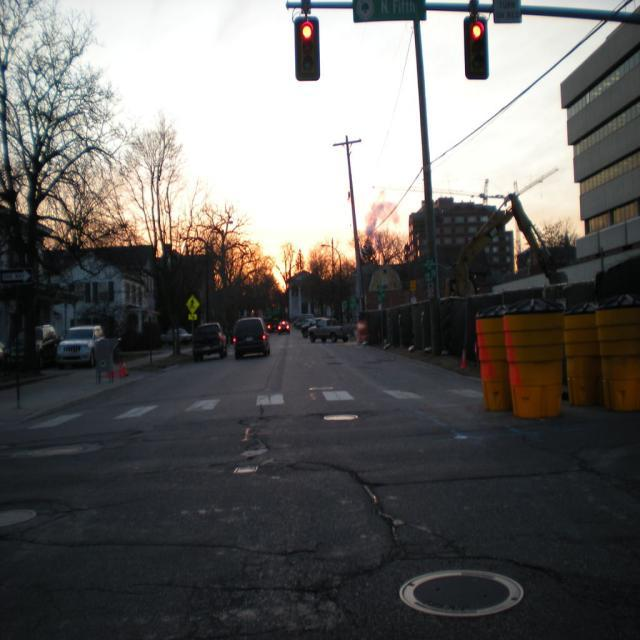traffic light: (465, 20, 489, 77), (297, 19, 318, 79)
